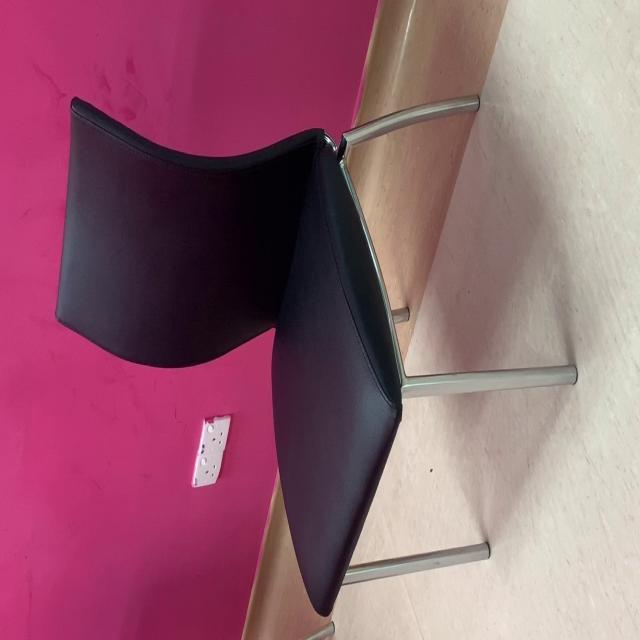chair: (53, 93, 582, 619)
